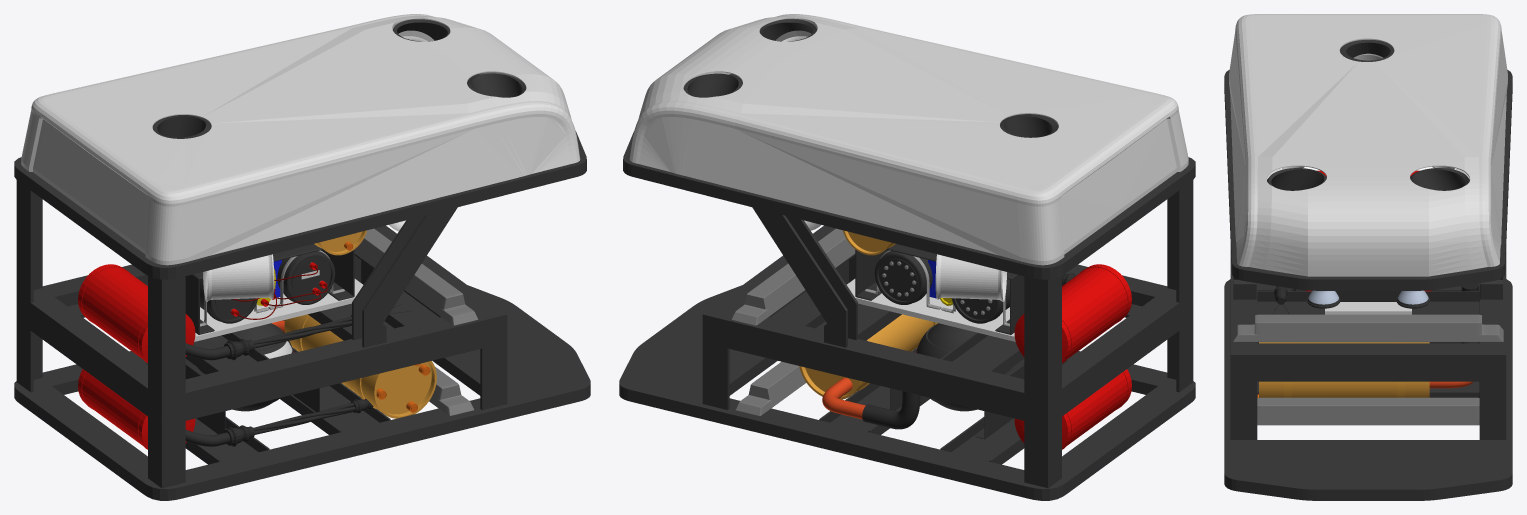
The model's file is rexrov2_oberon7_subsea_rov.glb.
3 renders of one model, left to right at view 1: azimuth 30°, elevation 25°; view 2: azimuth 150°, elevation 25°; view 3: azimuth 270°, elevation 25°, orthographic. The views are drawn at different scales.
Visible parts, largest first — view 1: Housing_Top, Frame-Main, Frame-Ground, Frame-Top, Tank_003, Frame-vertical-front_001, Cylinder_002, _-String_001, Frame-Ground_001, BezierCurve_005, Counter-Weight_001, SF30k-2 (+11 smaller); view 2: Housing_Top, Frame-Main, Frame-Ground, Frame-Top, Tank_003, Frame-vertical-front_001, Frame-Ground_001, BezierCurve_005, Cylinder_002, Counter-Weight_001, SF30k-2, Beam2_001 (+11 smaller); view 3: Housing_Top, Frame-Main, Frame-Ground, Frame-Ground_001, Counter-Weight_001, Counter-Weight, Frame-Top, Cylinder_002, Beam_004, bcut-top_003, Beam2_001, Frame-vertical-front_001 (+6 smaller).
Boxes of the visible parts, x1,y1,x2,y2 form: Housing_Top: (21,14,580,265); Frame-Main: (16,180,507,488); Frame-Ground: (14,285,590,500); Frame-Top: (14,74,586,279); Tank_003: (78,264,195,449); Frame-vertical-front_001: (352,207,457,347); Cylinder_002: (284,230,436,418); _-String_001: (185,304,410,446); Frame-Ground_001: (390,298,552,395); BezierCurve_005: (200,251,335,323); Counter-Weight_001: (354,228,478,325); SF30k-2: (203,36,427,301); Housing_Top: (629,14,1188,265); Frame-Main: (702,180,1193,488); Frame-Ground: (619,285,1195,500); Frame-Top: (623,74,1195,279); Tank_003: (1014,264,1131,449); Frame-vertical-front_001: (752,207,857,347); Frame-Ground_001: (657,298,819,395); BezierCurve_005: (874,251,1009,323); Cylinder_002: (799,230,937,399); Counter-Weight_001: (731,228,855,325); SF30k-2: (782,36,1006,301); Beam2_001: (847,279,1015,341); Housing_Top: (1229,14,1507,276); Frame-Main: (1230,247,1506,439); Frame-Ground: (1224,279,1512,500); Frame-Ground_001: (1255,440,1481,475); Counter-Weight_001: (1233,314,1503,342); Counter-Weight: (1257,397,1479,425); Frame-Top: (1224,70,1512,290); Cylinder_002: (1257,342,1429,397); Beam_004: (1257,291,1479,314); bcut-top_003: (1267,168,1469,190); Beam2_001: (1325,302,1411,314); Frame-vertical-front_001: (1233,277,1502,299).
Bounding box in the file's own units: 2.67 × 1.67 × 1.53.
